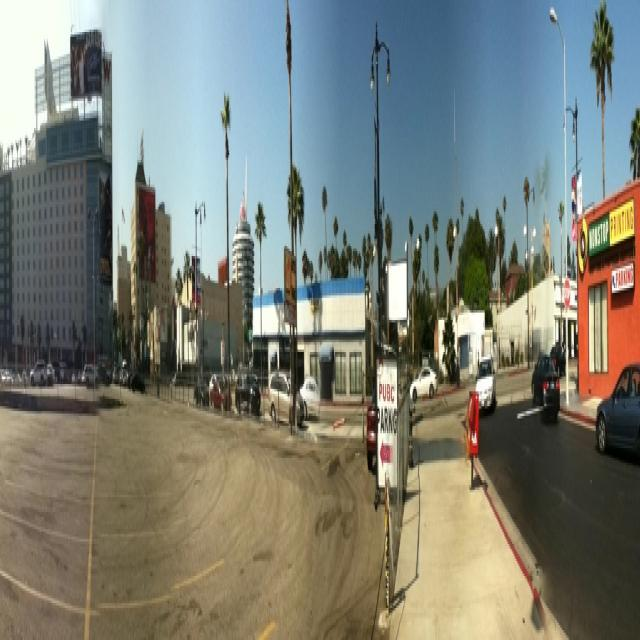car: (529, 345, 560, 414), (407, 359, 435, 394)
